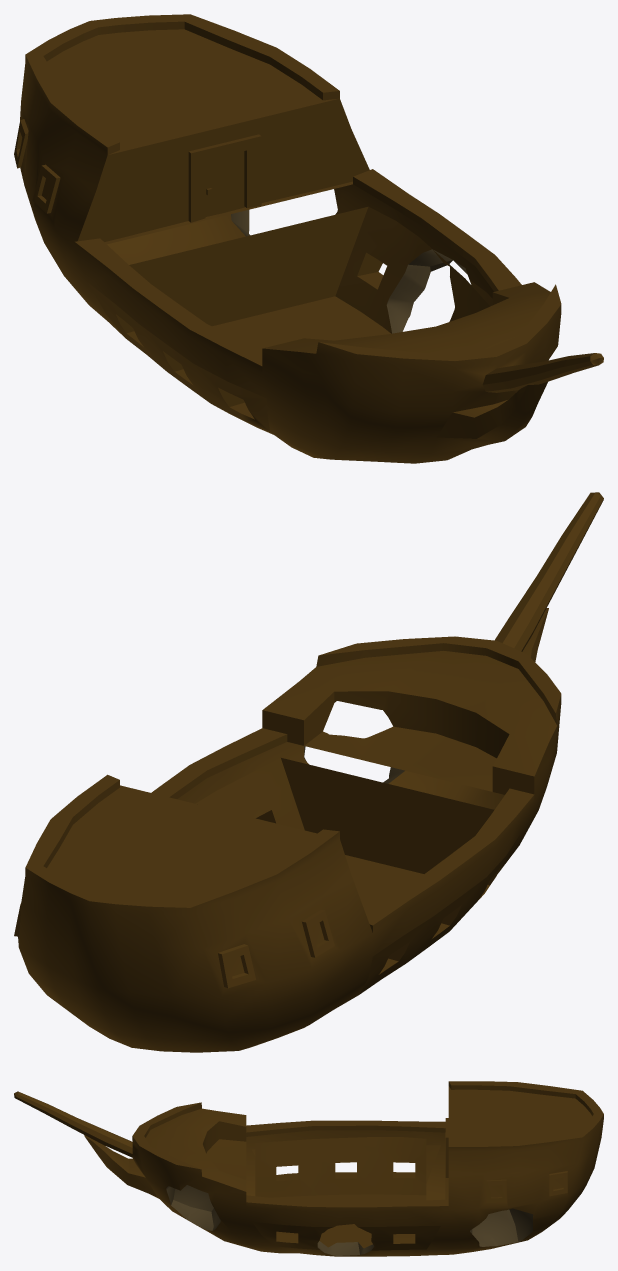
Rendered from 3WayrBrokenShip.fbx.
3 renders of one model, top to bottom at view 1: azimuth 30°, elevation 25°; view 2: azimuth 150°, elevation 25°; view 3: azimuth 270°, elevation 25°, orthographic. The views are drawn at different scales.
Visible parts, largest first — view 1: MainShipBody002; view 2: MainShipBody002; view 3: MainShipBody002.
Boxes of the visible parts, x1,y1,x2,y2 form: MainShipBody002: [14, 14, 603, 463]; MainShipBody002: [14, 492, 603, 1052]; MainShipBody002: [14, 1081, 603, 1256].
Size of the model in its own units: 507 by 1461 by 381.
